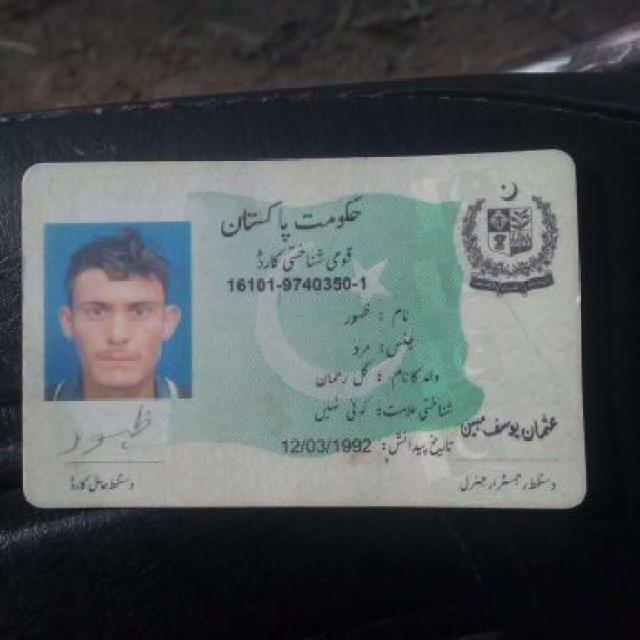Front: (8, 154, 590, 520)
